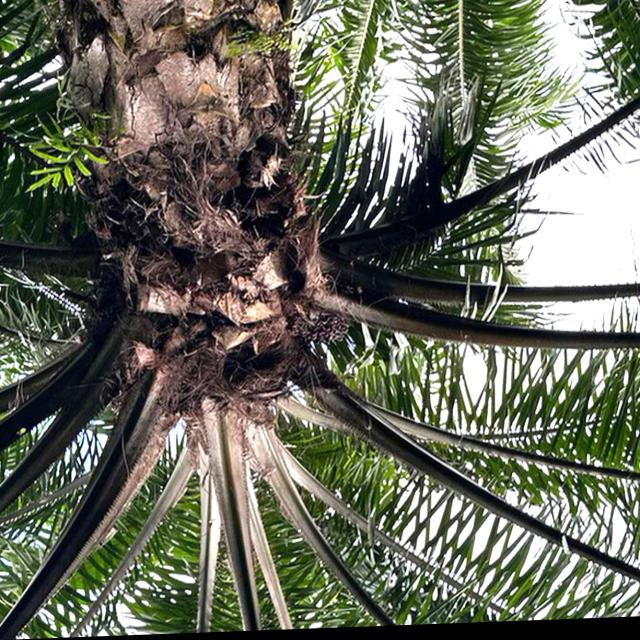ripe: (294, 300, 358, 355)
